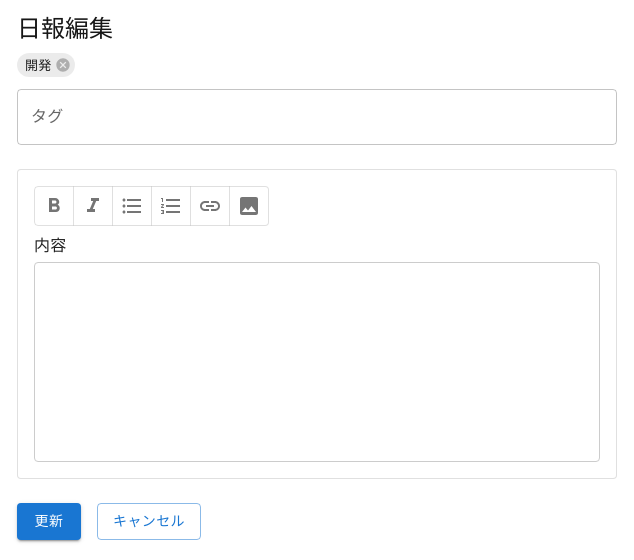
Test: EditReportPage › 内容が空のまま送信するとバリデーションエラーが表示される
Click the icon with test id "CancelIcon" at (63, 65), box [55,57,71,73]
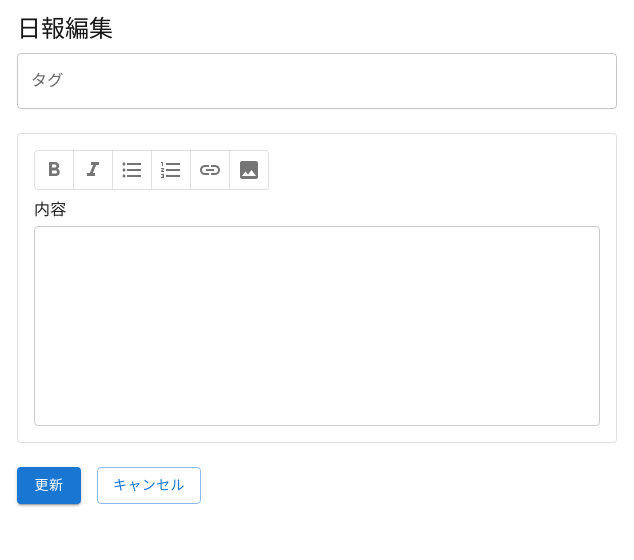
Click the button "更新" at (49, 486), box [17,467,81,504]
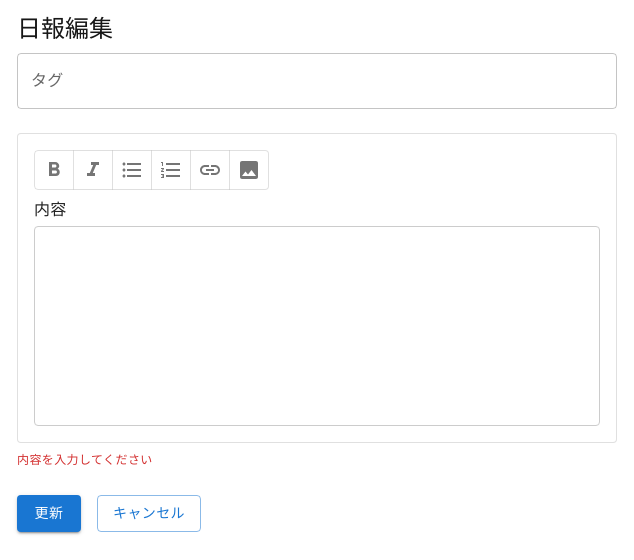
Now the text "内容を入力してください" is shown, box [17,453,153,467]
